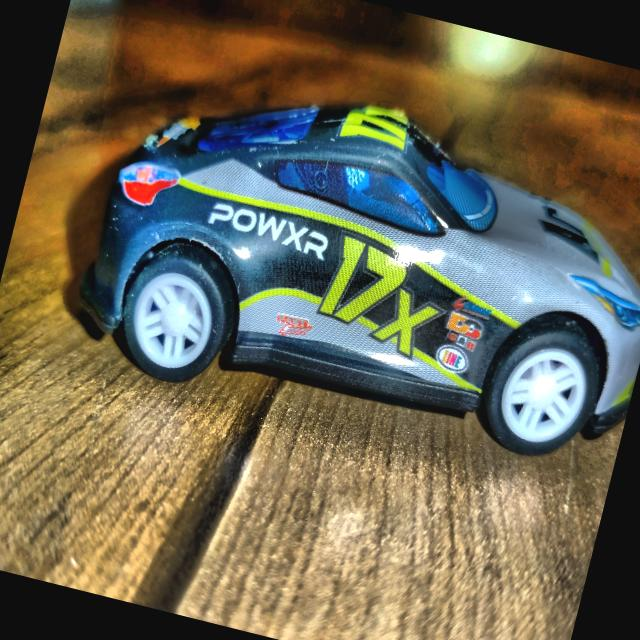Car: (63, 47, 640, 490)
